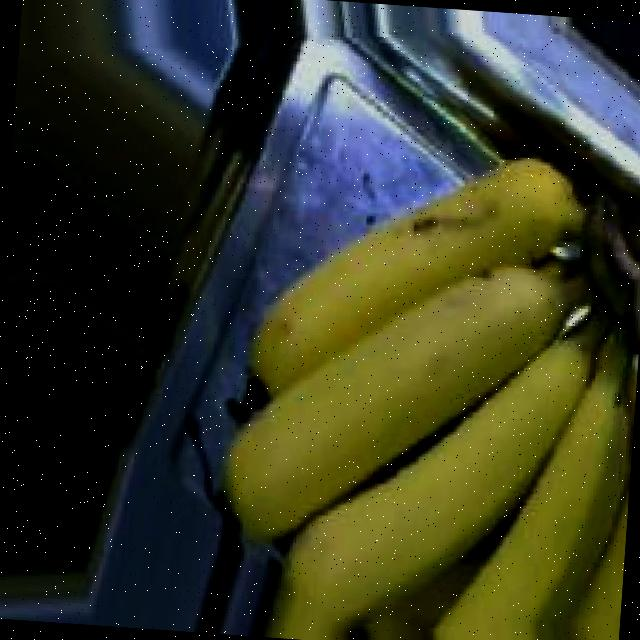banana: (199, 118, 640, 640)
